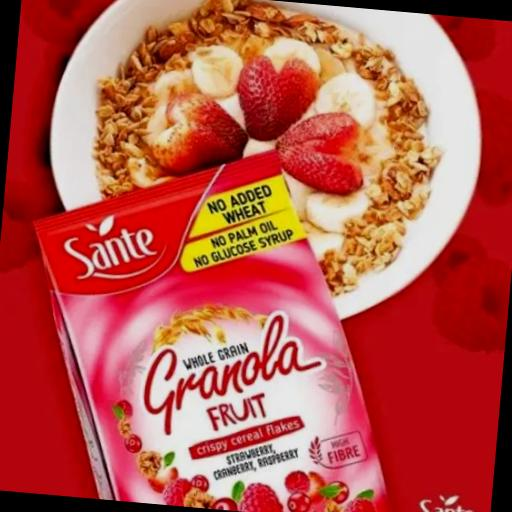granola: (6, 154, 427, 512)
